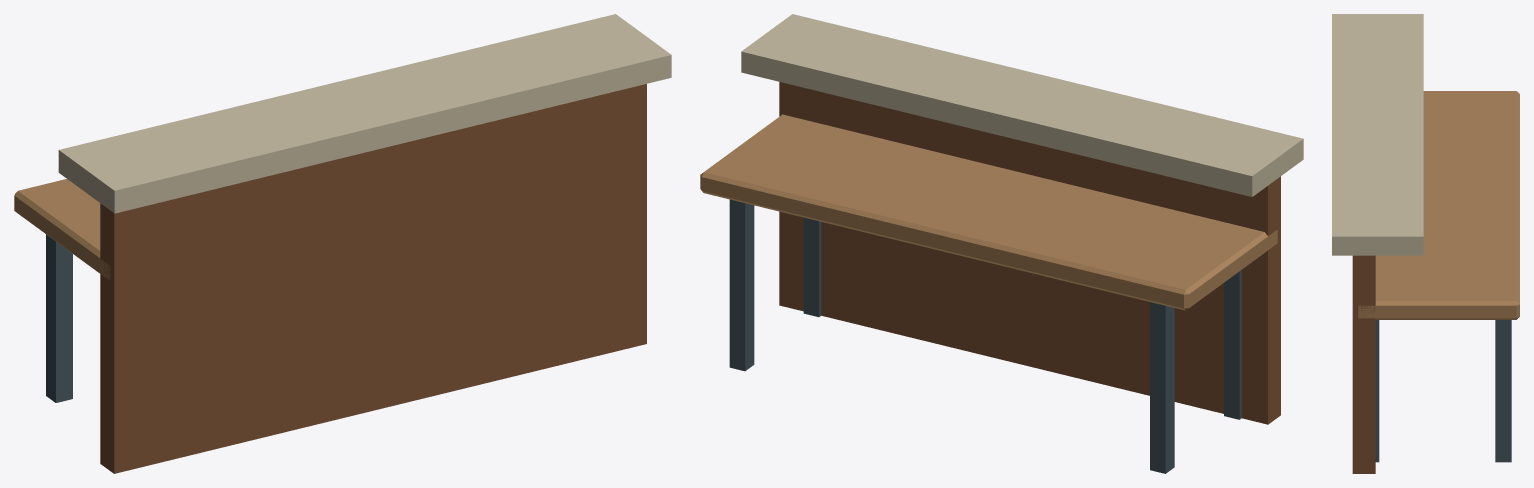
Rendered from reception_desk.glb.
3 renders of one model, left to right at view 1: azimuth 30°, elevation 25°; view 2: azimuth 150°, elevation 25°; view 3: azimuth 270°, elevation 25°, orthographic. The views are drawn at different scales.
Visible parts, largest first — view 1: reception_desk; view 2: reception_desk; view 3: reception_desk.
Boxes of the visible parts, bbox=[...] form: reception_desk: bbox=[14, 14, 671, 473]; reception_desk: bbox=[700, 14, 1303, 473]; reception_desk: bbox=[1332, 14, 1519, 473].
Size of the model in its own units: 2.3 by 1.17 by 0.82.
